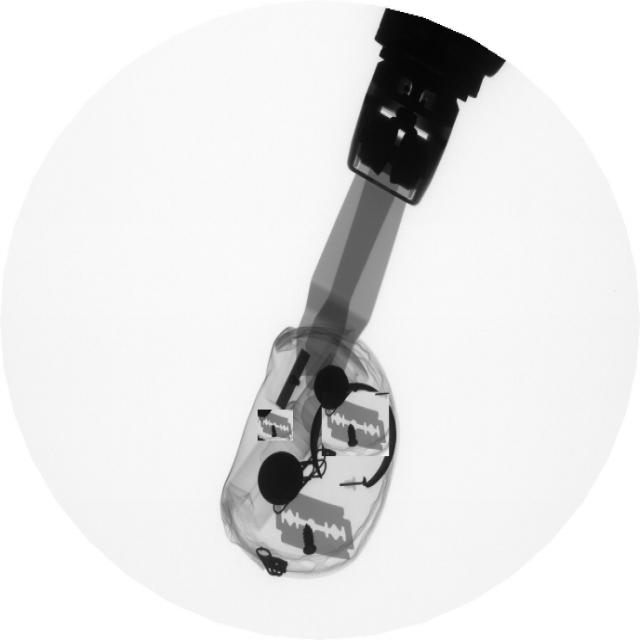BLADE: (266, 485, 360, 567), (321, 391, 392, 457), (256, 406, 301, 448)
